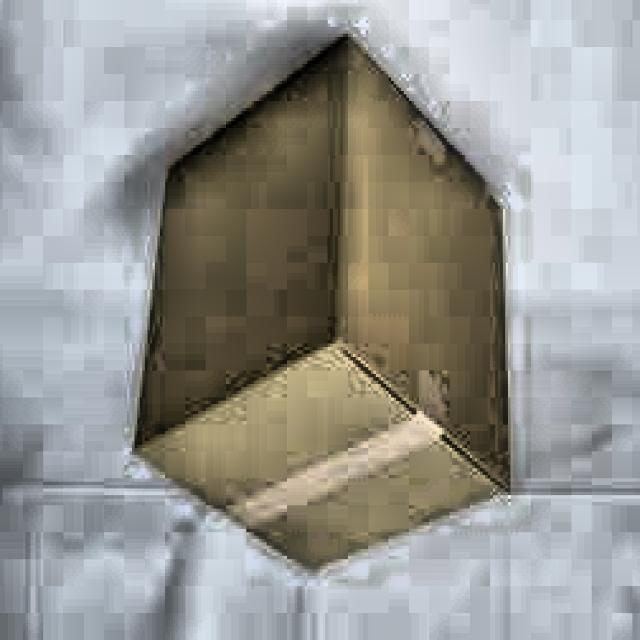cardboard: (132, 37, 513, 580)
